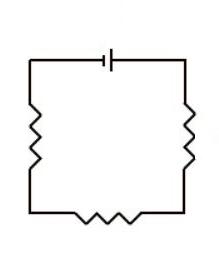resistor: (167, 83, 203, 180), (62, 198, 151, 233), (16, 86, 45, 191)
